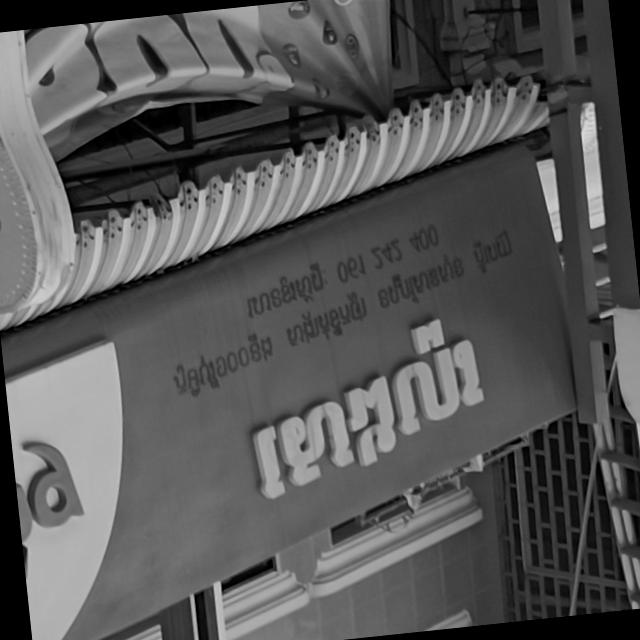3: (162, 225, 521, 409)
Yolov11kh: (222, 297, 501, 519), (236, 255, 332, 325)
